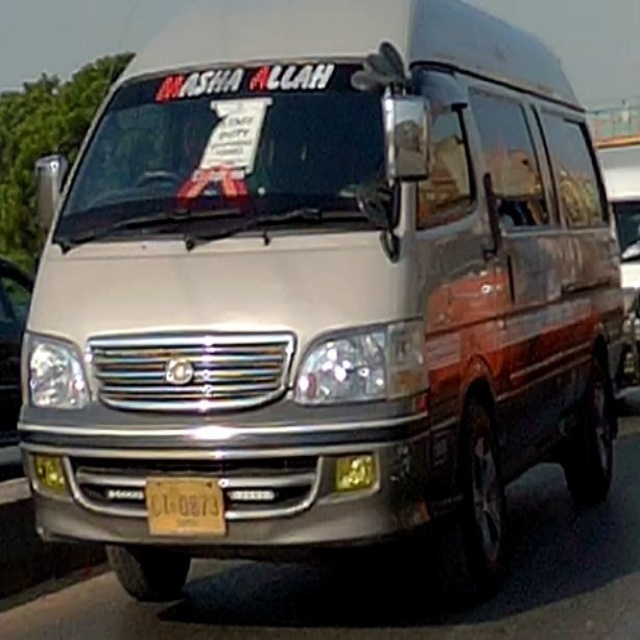Van: (17, 1, 624, 605)
